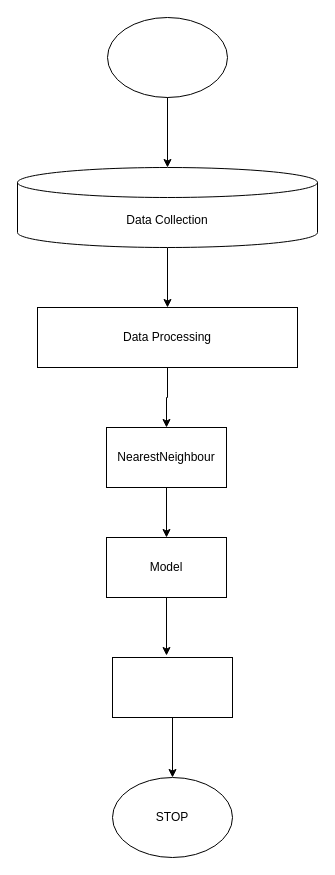
The diagram is 335 pixels wide and 875 high, and some of its shapes have lost their labels. The shapes that lost their labels are listed below. From the top down, each one's box as (x1, y1, x2, y2) in pixels, then its label:
(106, 16, 228, 98): START
(112, 656, 232, 718): Prediction
